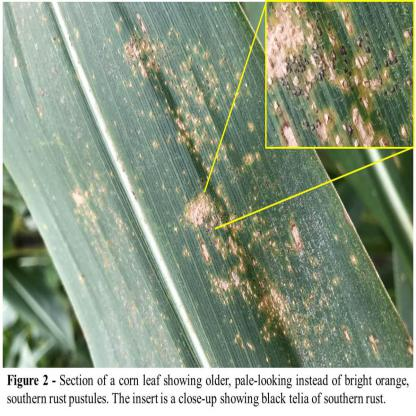corn rust leaf: (3, 6, 395, 367)
